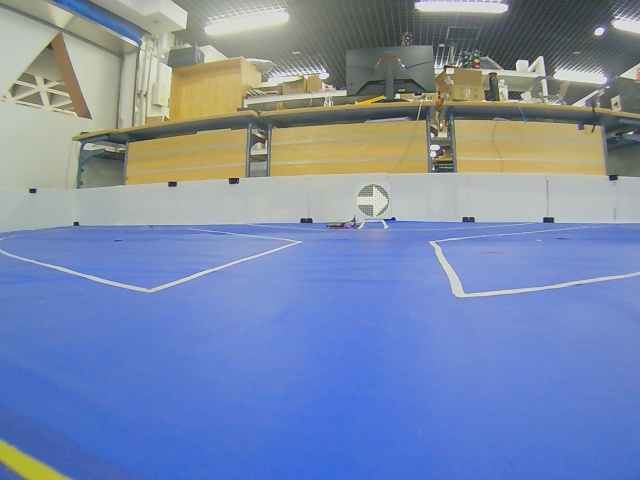right_yellow: (357, 184, 390, 217)
